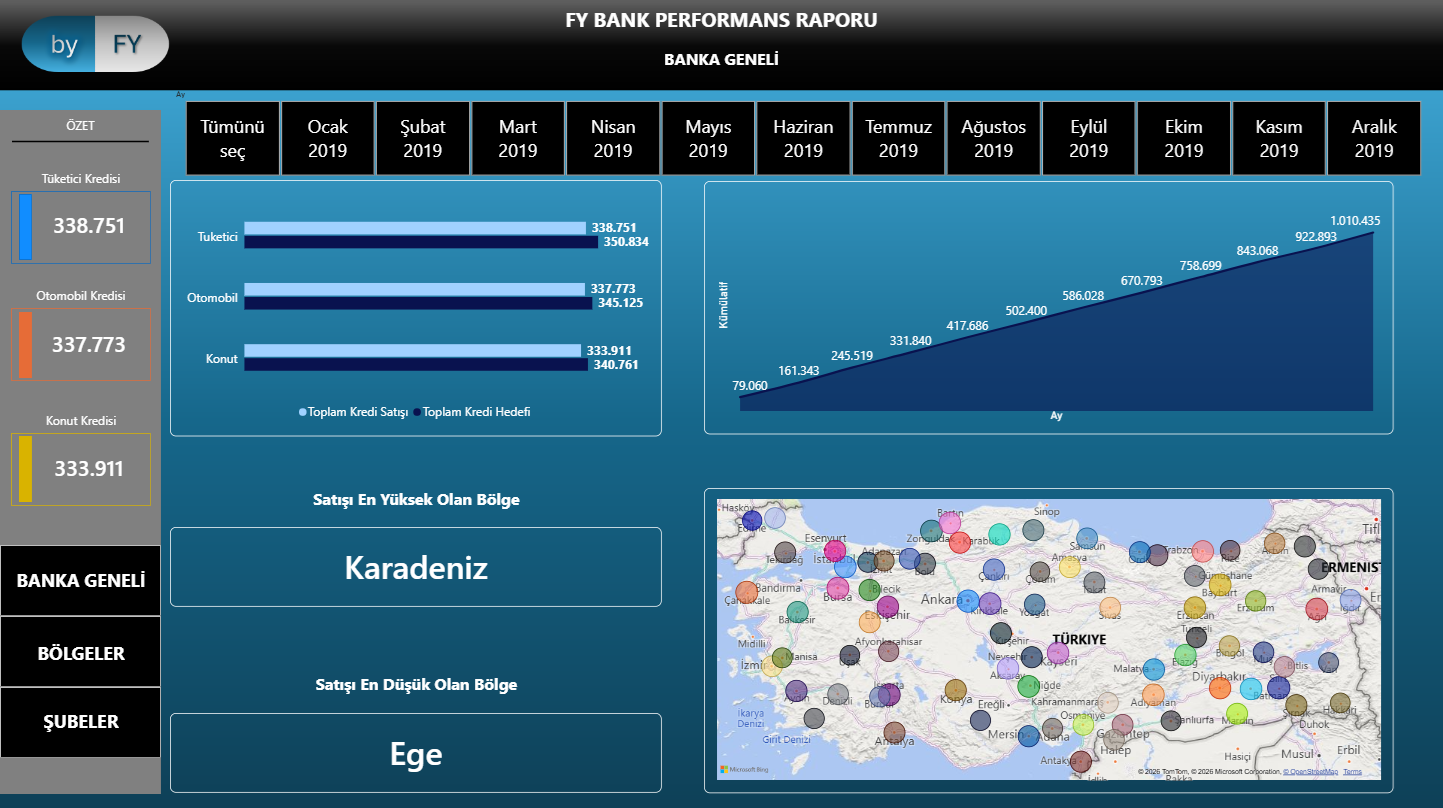

The dashboard page shown, as its layout file describes it:
{"tool":"powerbi","page":{"name":"BANKA","canvas":[1920,1080],"ordinal":0},"visuals":[{"type":"textbox","box":[746.2,9.3,426.9,46.6],"z":0},{"type":"textbox","box":[746.2,66.5,426.9,46.6],"z":1000},{"type":"shape","box":[0,149,214.1,909.8],"z":2000},{"type":"textbox","box":[14.6,228.8,186.2,27.9],"z":3000},{"type":"shape","box":[16,179.6,182.2,22.6],"z":4000},{"type":"shape","box":[14.6,256.7,186.2,97.1],"z":5000},{"type":"textbox","box":[10.6,158.3,192.9,42.6],"z":6000},{"type":"shape","box":[25.3,260.7,17.3,87.8],"z":7000},{"type":"textbox","box":[14.6,384.4,186.2,27.9],"z":8000},{"type":"shape","box":[14.6,412.3,186.2,97.1],"z":9000},{"type":"shape","box":[25.3,417.2,17.3,87.8],"z":10000},{"type":"textbox","box":[14.6,550.6,186.2,27.9],"z":11000},{"type":"shape","box":[14.6,578.6,186.2,97.1],"z":12000},{"type":"shape","box":[25.3,583.1,17.3,87.8],"z":13000},{"type":"shape","box":[0,727.5,214.1,94.4],"z":14000},{"type":"shape","box":[0,822,214.1,94.4],"z":15000},{"type":"shape","box":[0,916.4,214.1,94.4],"z":16000},{"type":"textbox","box":[9.3,756.8,196.8,37.2],"z":17000},{"type":"textbox","box":[9.3,944.3,196.8,39.9],"z":18000},{"type":"textbox","box":[9.3,853.9,196.8,31.9],"z":19000},{"type":"card","fields":{"Values":["Ölçüler.Tüketici Kredisi Toplam Satış"]},"box":[42.3,259.7,151.7,88.5],"z":20000},{"type":"card","fields":{"Values":["Ölçüler.Konut Kredisi Toplam Satış"]},"box":[42.3,582.1,151.7,88.5],"z":21000},{"type":"card","fields":{"Values":["Ölçüler.Otomobil Kredisi Toplam Satış"]},"box":[42.7,417.2,151.7,88.5],"z":22000},{"type":"slicer","fields":{"Values":["Krediler.Ay"]},"box":[226,121.7,1683,116.9],"z":23000},{"type":"clusteredBarChart","fields":{"Category":["Krediler.Kategori"],"Y":["Ölçüler.Toplam Kredi Satışı","Ölçüler.Toplam Kredi Hedefi"]},"box":[226.2,242.4,654.4,340.6],"z":24000},{"type":"areaChart","fields":{"Category":["Krediler.Ay"],"Y":["Ölçüler.Kümülatif"]},"box":[935.7,242.9,916.9,337],"z":25000},{"type":"textbox","box":[340.1,652,426.9,46.6],"z":26000},{"type":"card","fields":{"Values":["Min(Sube_Listesi.Bolgesi)"]},"box":[225.7,703.7,654.4,106.4],"z":27000},{"type":"textbox","box":[340.1,898.1,426.9,46.6],"z":28000},{"type":"card","fields":{"Values":["Min(Sube_Listesi.Bolgesi)"]},"box":[225.7,951.4,654.4,106.4],"z":29000},{"type":"map","fields":{"Category":["Sube_Listesi.Konum"],"Series":["Sube_Listesi.Konum"],"Size":["Ölçüler.Toplam Kredi Satışı"]},"box":[935.7,652,916.9,405.9],"z":30000}]}

Visuals, with their boxes in screenshot pixels (x1, y1, x2, y2), scaled from the page's 1920x1080 canvas onto the 1443x808 screenshot:
textbox: x1=561, y1=7, x2=882, y2=42
textbox: x1=561, y1=50, x2=882, y2=85
shape: x1=0, y1=111, x2=161, y2=792
textbox: x1=11, y1=171, x2=151, y2=192
shape: x1=12, y1=134, x2=149, y2=151
shape: x1=11, y1=192, x2=151, y2=265
textbox: x1=8, y1=118, x2=153, y2=150
shape: x1=19, y1=195, x2=32, y2=261
textbox: x1=11, y1=288, x2=151, y2=308
shape: x1=11, y1=308, x2=151, y2=381
shape: x1=19, y1=312, x2=32, y2=378
textbox: x1=11, y1=412, x2=151, y2=433
shape: x1=11, y1=433, x2=151, y2=506
shape: x1=19, y1=436, x2=32, y2=502
shape: x1=0, y1=544, x2=161, y2=615
shape: x1=0, y1=615, x2=161, y2=686
shape: x1=0, y1=686, x2=161, y2=756
textbox: x1=7, y1=566, x2=155, y2=594
textbox: x1=7, y1=706, x2=155, y2=736
textbox: x1=7, y1=639, x2=155, y2=663
card - Ölçüler.Tüketici Kredisi Toplam Satış: x1=32, y1=194, x2=146, y2=261
card - Ölçüler.Konut Kredisi Toplam Satış: x1=32, y1=435, x2=146, y2=502
card - Ölçüler.Otomobil Kredisi Toplam Satış: x1=32, y1=312, x2=146, y2=378
slicer - Krediler.Ay: x1=170, y1=91, x2=1435, y2=179
clusteredBarChart - Krediler.Kategori x Ölçüler.Toplam Kredi Satışı: x1=170, y1=181, x2=662, y2=436
areaChart - Krediler.Ay x Ölçüler.Kümülatif: x1=703, y1=182, x2=1392, y2=434
textbox: x1=256, y1=488, x2=576, y2=523
card - Min(Sube_Listesi.Bolgesi): x1=170, y1=526, x2=661, y2=606
textbox: x1=256, y1=672, x2=576, y2=707
card - Min(Sube_Listesi.Bolgesi): x1=170, y1=712, x2=661, y2=791
map - Sube_Listesi.Konum x Sube_Listesi.Konum: x1=703, y1=488, x2=1392, y2=791
